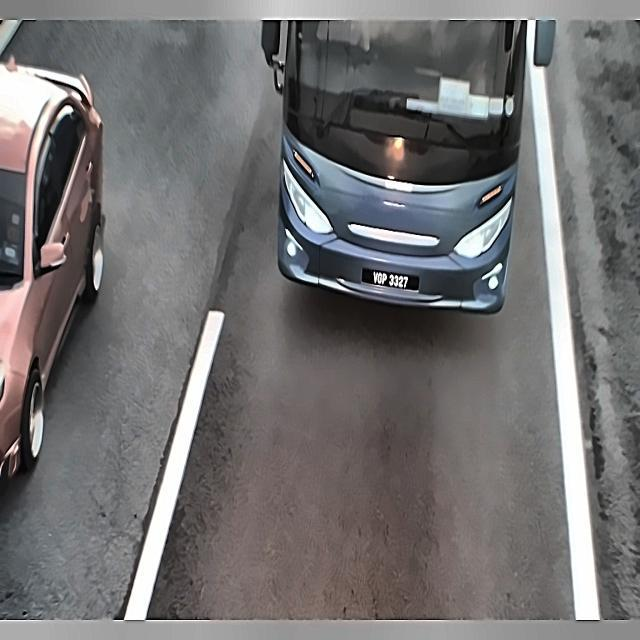car: (358, 262, 425, 298)
